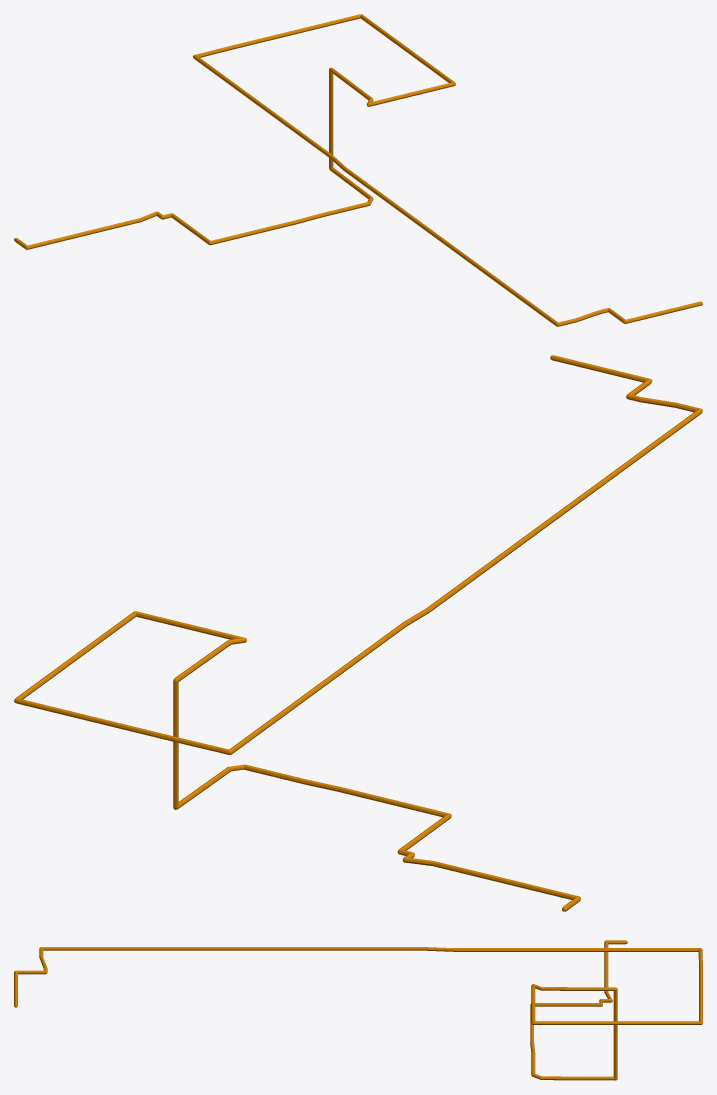
3 renders of one model, top to bottom at view 1: azimuth 30°, elevation 25°; view 2: azimuth 150°, elevation 25°; view 3: azimuth 270°, elevation 25°, orthographic. The views are drawn at different scales.
Bounding box in the file's own units: 2063 × 520 × 3494.
